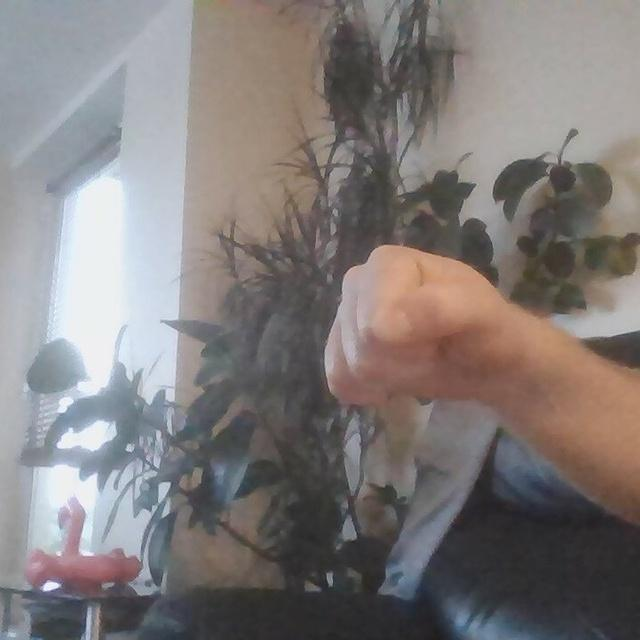rock: (315, 242, 508, 418)
